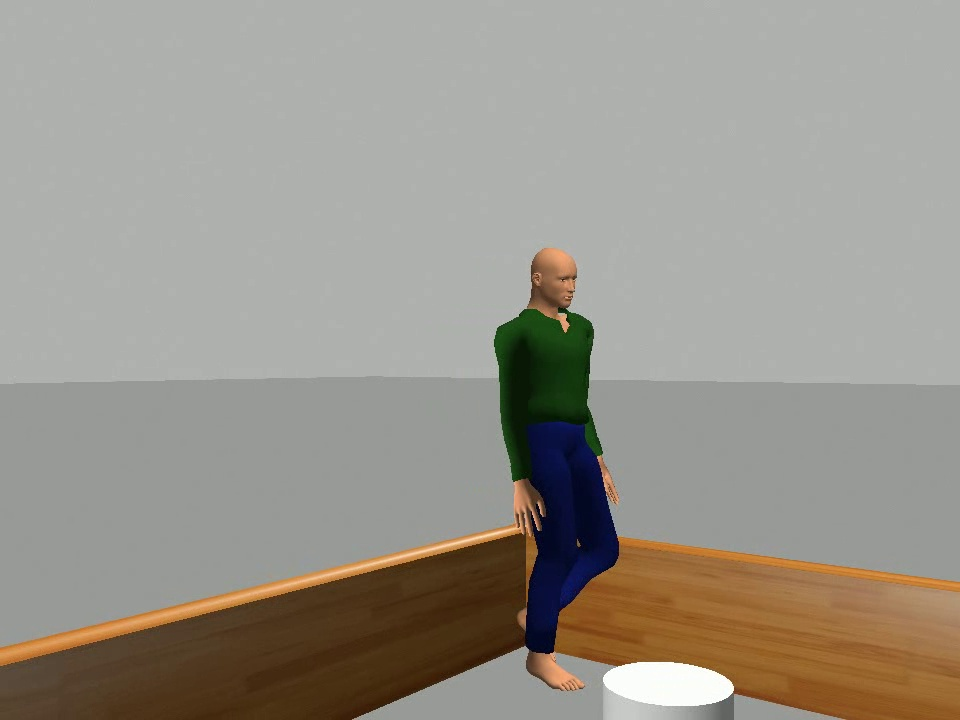person: (490, 242, 627, 697)
